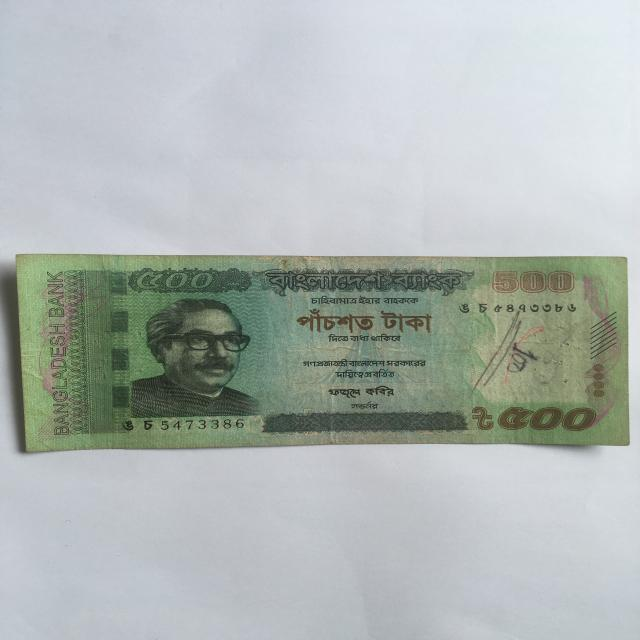Taka: (8, 248, 635, 451)
